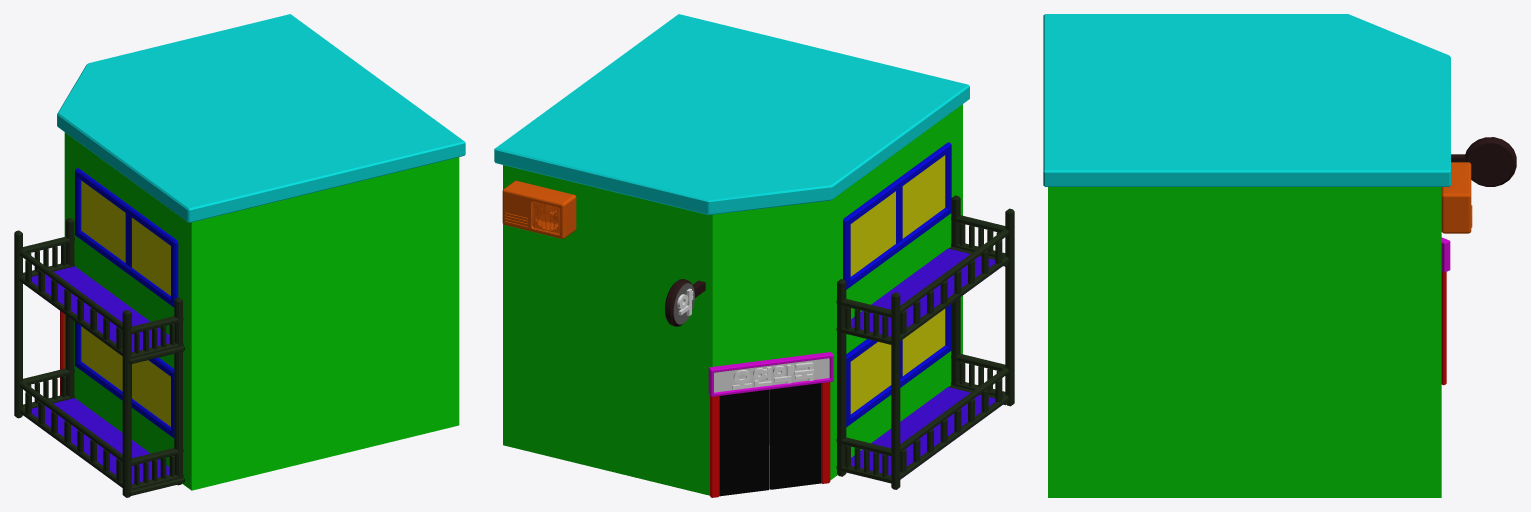
Rendered from Building_1.fbx.
The picture shows the model from 3 angles, left to right: view 1: azimuth 30°, elevation 25°; view 2: azimuth 150°, elevation 25°; view 3: azimuth 270°, elevation 25°; orthographic projection. The views are drawn at different scales.
Parts seen in each view (by area): view 1: polySurface1556; view 2: polySurface1556, polySurface1621, typeMesh18, polySurface1558; view 3: polySurface1556, polySurface1558.
Part boxes in pixels (left/top/right/bottom): polySurface1556: left=14, top=14, right=465, bottom=497; polySurface1556: left=494, top=14, right=1014, bottom=497; polySurface1621: left=708, top=352, right=833, bottom=396; typeMesh18: left=732, top=362, right=814, bottom=389; polySurface1558: left=665, top=279, right=694, bottom=326; polySurface1556: left=1043, top=14, right=1472, bottom=497; polySurface1558: left=1465, top=137, right=1516, bottom=186.
Size of the model in its own units: 216 by 177 by 231.
